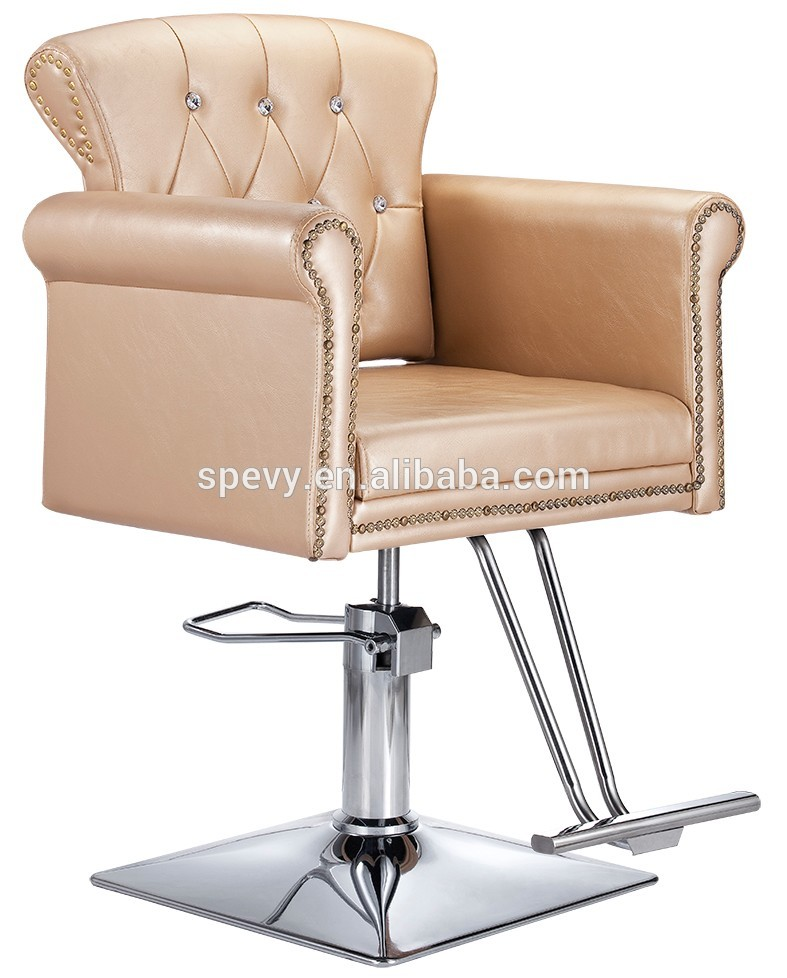chairs: (17, 14, 763, 963)
